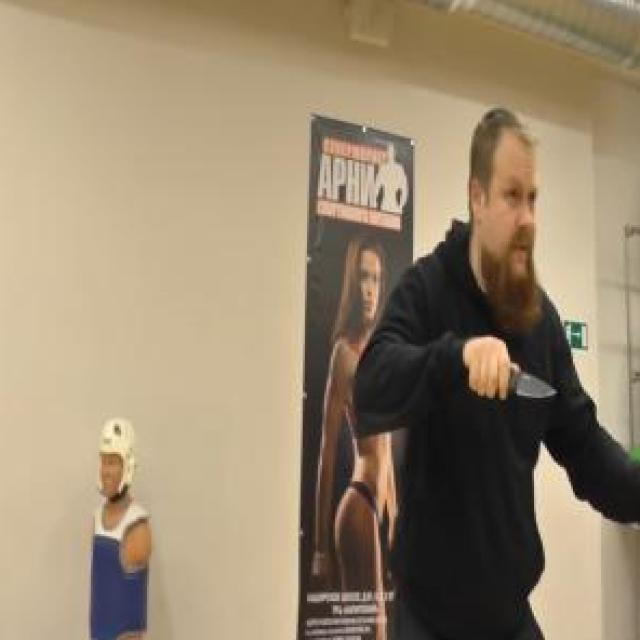knife: (467, 329, 560, 403)
